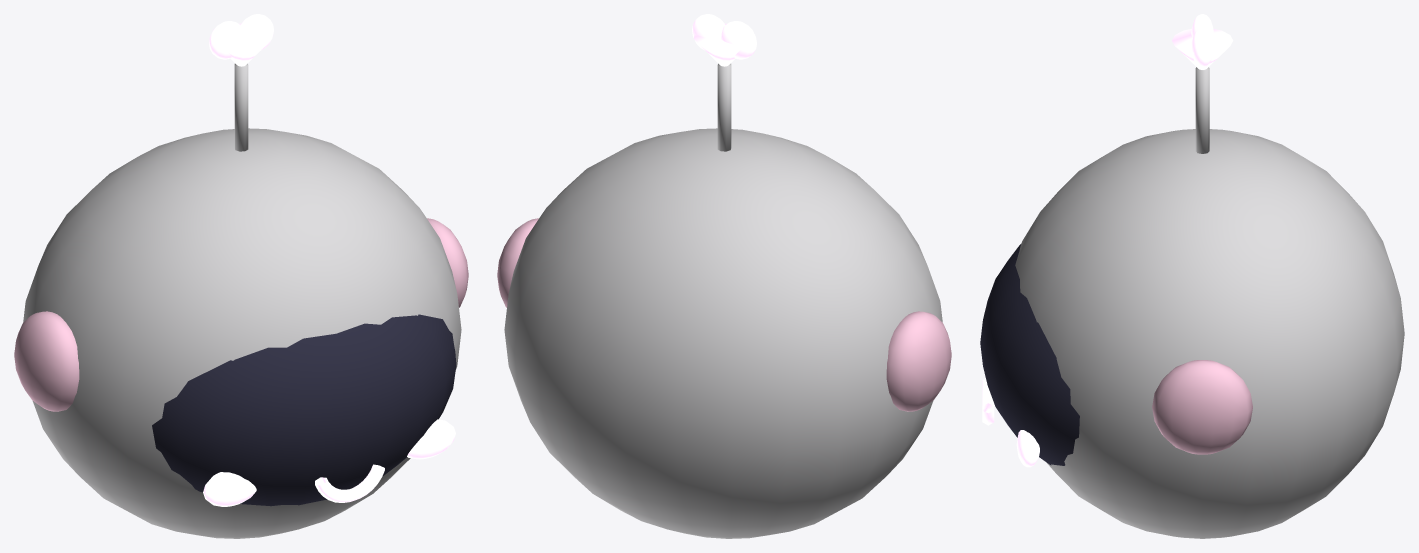
File: blip_head.glb
3 views of the same model, side by side, from view 1: azimuth 30°, elevation 25°; view 2: azimuth 150°, elevation 25°; view 3: azimuth 270°, elevation 25° (orthographic).
Visible parts, largest first — view 1: Dome.001, Face, Ear-1.001, Cheek-1, Stem, Ear1.001, Cheek1, Smile, AntennaHeartLobe-1, AntennaHeartPoint, AntennaHeartLobe1; view 2: Dome.001, Ear-1.001, Stem, Ear1.001, AntennaHeartLobe-1, AntennaHeartPoint, AntennaHeartLobe1; view 3: Dome.001, Face, Ear1.001, Stem, AntennaHeartPoint, AntennaHeartLobe1, Cheek1.
Boxes of the visible parts, x1,y1,x2,y2 form: Dome.001: (23,128,461,538); Face: (152,314,456,506); Ear-1.001: (14,311,79,411); Cheek-1: (203,472,256,506); Stem: (234,63,248,151); Ear1.001: (427,218,468,307); Cheek1: (407,419,455,459); Smile: (315,464,384,502); AntennaHeartLobe-1: (209,21,244,59); AntennaHeartPoint: (220,23,272,66); AntennaHeartLobe1: (240,14,273,50); Dome.001: (504,128,942,538); Ear-1.001: (886,311,951,411); Stem: (717,63,731,151); Ear1.001: (497,218,538,307); AntennaHeartLobe-1: (721,21,756,59); AntennaHeartPoint: (693,23,745,66); AntennaHeartLobe1: (692,14,725,50); Dome.001: (1015,129,1404,538); Face: (980,244,1079,465); Ear1.001: (1152,360,1252,454); Stem: (1195,67,1209,153); AntennaHeartPoint: (1172,29,1233,69); AntennaHeartLobe1: (1191,27,1213,67); Cheek1: (1016,430,1039,467).
Bounding box in the file's own units: 0.4885 × 0.5398 × 0.42.
